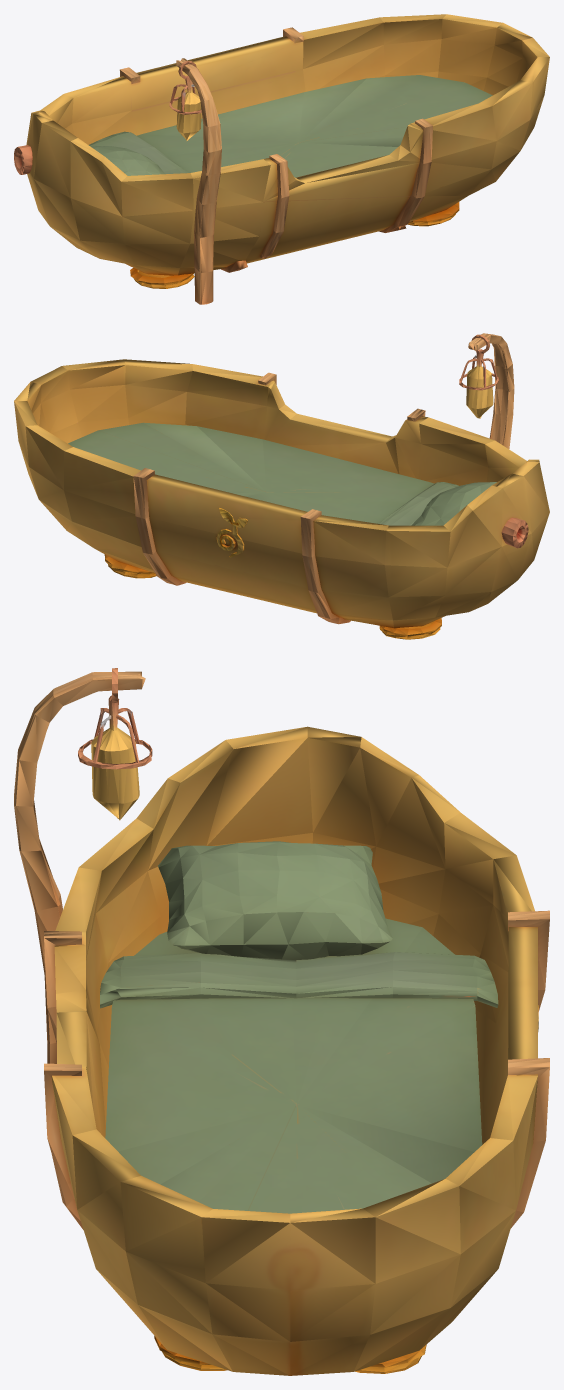
Rendered from berceau.glb.
3 renders of one model, top to bottom at view 1: azimuth 30°, elevation 25°; view 2: azimuth 150°, elevation 25°; view 3: azimuth 270°, elevation 25°, orthographic. The views are drawn at different scales.
Visible parts, largest first — view 1: Corps, Lampe; view 2: Corps, Lampe; view 3: Corps, Lampe.
Boxes of the visible parts, x1,y1,x2,y2 form: Corps: (14,14,549,304); Lampe: (169,61,201,114); Corps: (14,333,549,639); Lampe: (459,334,498,390); Corps: (14,671,549,1375); Lampe: (78,668,152,769).
Bounding box in the file's own units: 2.31 × 1.06 × 1.16.
Materials: 1 (1 with a texture image).
